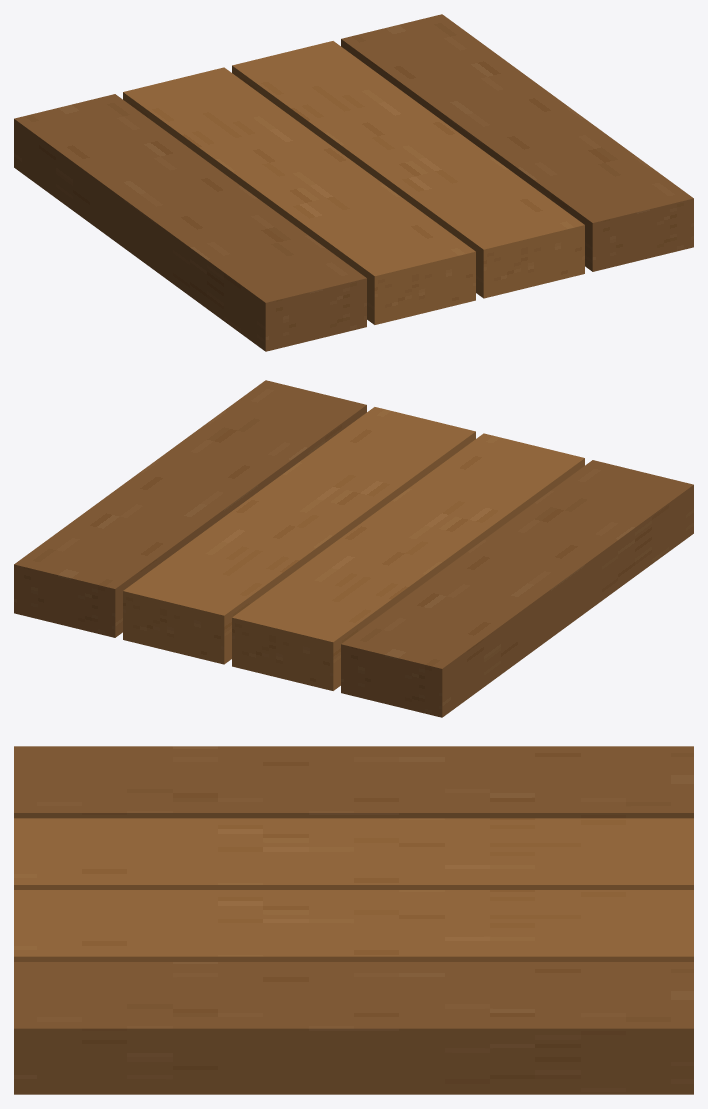
The model's file is foundation.glb.
3 views of the same model, one above another, from view 1: azimuth 30°, elevation 25°; view 2: azimuth 150°, elevation 25°; view 3: azimuth 270°, elevation 25° (orthographic). The views are drawn at different scales.
Visible parts, largest first — view 1: foundation; view 2: foundation; view 3: foundation.
Boxes of the visible parts, left/top/right/bottom form: foundation: left=14, top=14, right=693, bottom=351; foundation: left=14, top=380, right=693, bottom=717; foundation: left=14, top=746, right=693, bottom=1094.
Bounding box in the file's own units: 2.75 × 0.3 × 2.8.
Materials: 1 (1 with a texture image).
